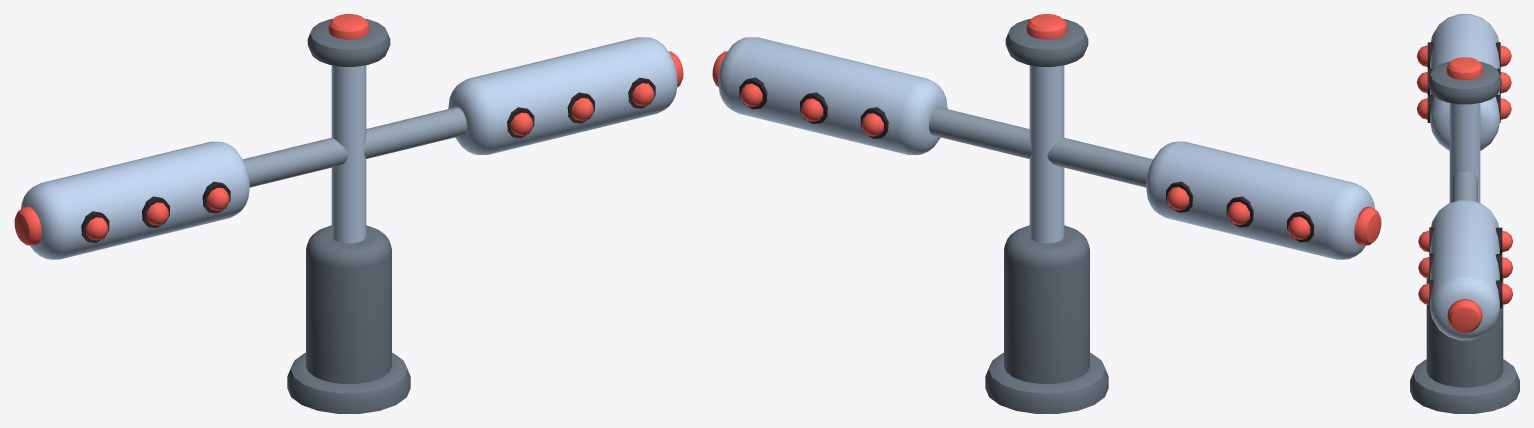
The model's file is RotationStick01.fbx.
3 views of the same model, side by side, from view 1: azimuth 30°, elevation 25°; view 2: azimuth 150°, elevation 25°; view 3: azimuth 270°, elevation 25° (orthographic). The views are drawn at different scales.
Visible parts, largest first — view 1: Stick_Base.001, Stick_Base; view 2: Stick_Base.001, Stick_Base; view 3: Stick_Base.001, Stick_Base.
Boxes of the visible parts, x1=… form: Stick_Base.001: x1=14, y1=37, x2=683, y2=259; Stick_Base: x1=287, y1=14, x2=410, y2=413; Stick_Base.001: x1=712, y1=37, x2=1381, y2=259; Stick_Base: x1=985, y1=14, x2=1108, y2=413; Stick_Base.001: x1=1416, y1=14, x2=1513, y2=340; Stick_Base: x1=1410, y1=57, x2=1519, y2=413.
Bounding box in the file's own units: 536 × 288 × 87.29.
